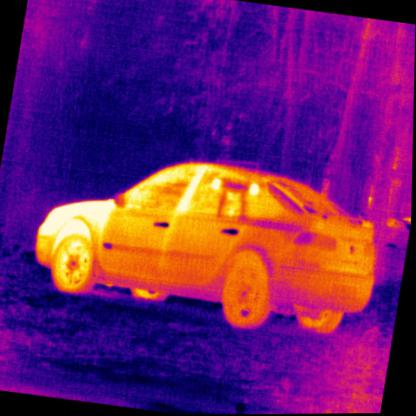vehicle: (27, 136, 391, 344)
